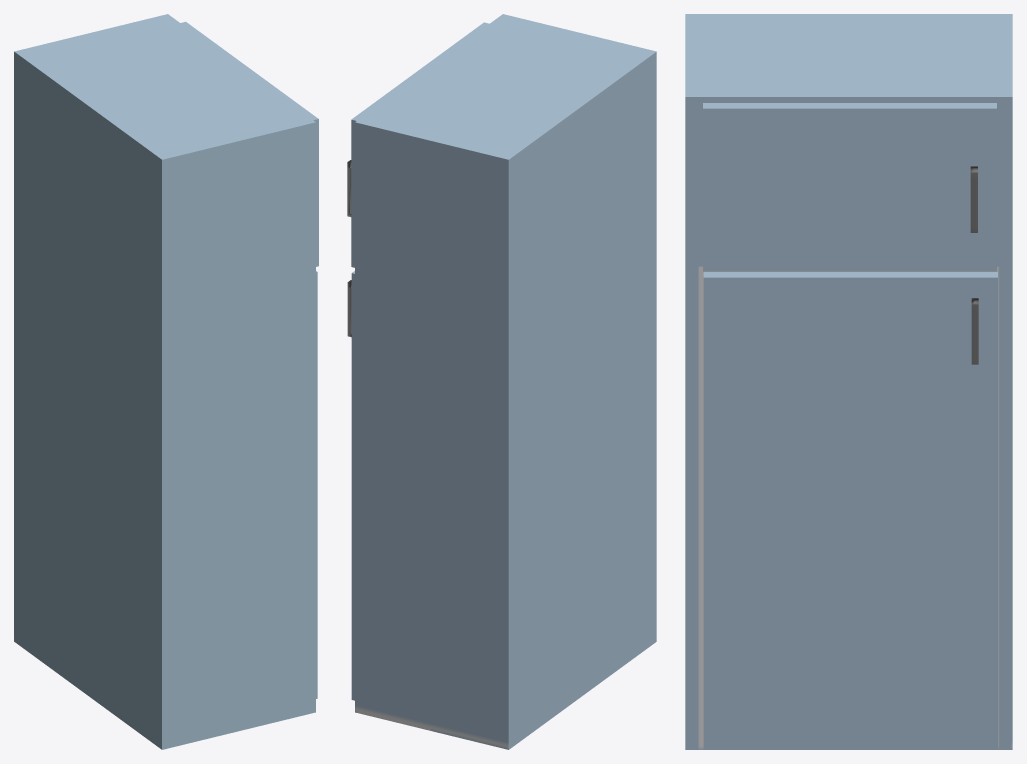
Rendered from FrigoConAnta.fbx.
3 renders of one model, left to right at view 1: azimuth 30°, elevation 25°; view 2: azimuth 150°, elevation 25°; view 3: azimuth 270°, elevation 25°, orthographic. The views are drawn at different scales.
Parts seen in each view (by area): view 1: Frigo, Anta_down; view 2: Frigo, Anta_down; view 3: Anta_down, Frigo.
Boxes of the visible parts, <box> form: Frigo: <box>14,14,318,749</box>; Anta_down: <box>316,271,317,698</box>; Frigo: <box>347,14,656,749</box>; Anta_down: <box>347,271,354,700</box>; Anta_down: <box>703,272,997,749</box>; Frigo: <box>685,14,1012,749</box>.
Bounding box in the file's own units: 69.21 × 220 × 100.
